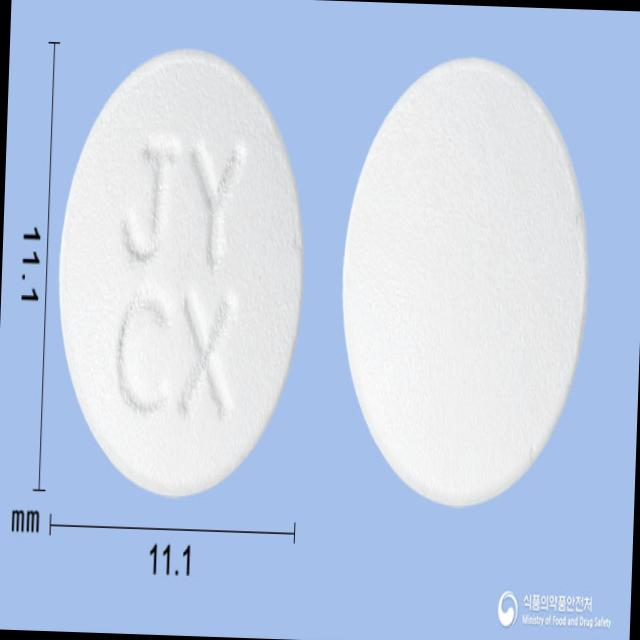Ciroxin: (46, 36, 314, 511)
